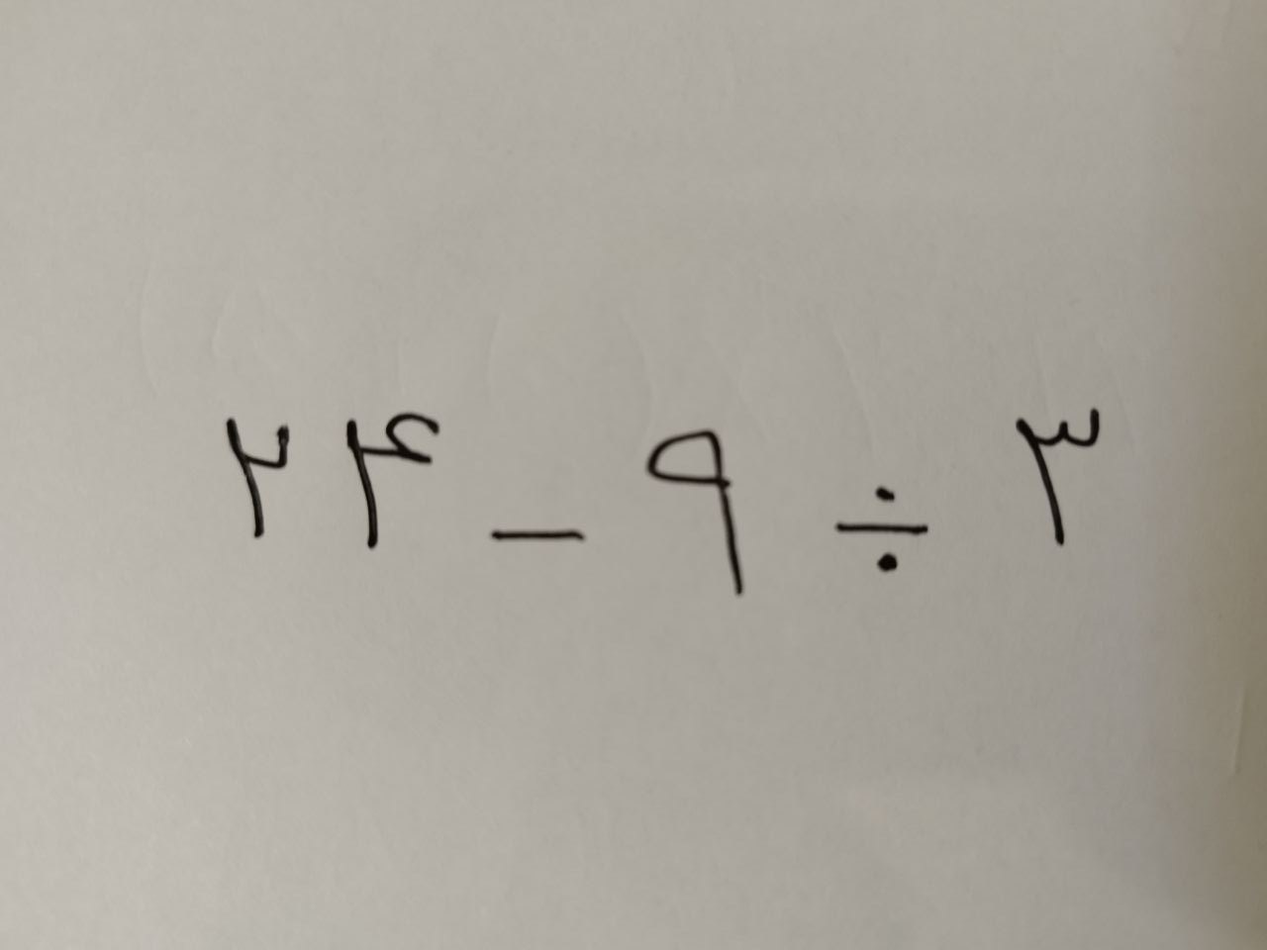character: (859, 321, 994, 447), (458, 308, 589, 413), (296, 312, 388, 406), (1111, 365, 1241, 431), (651, 395, 784, 408)
